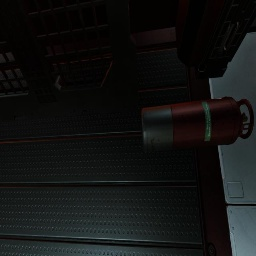NitrogenTank ,: (141, 96, 254, 152)
